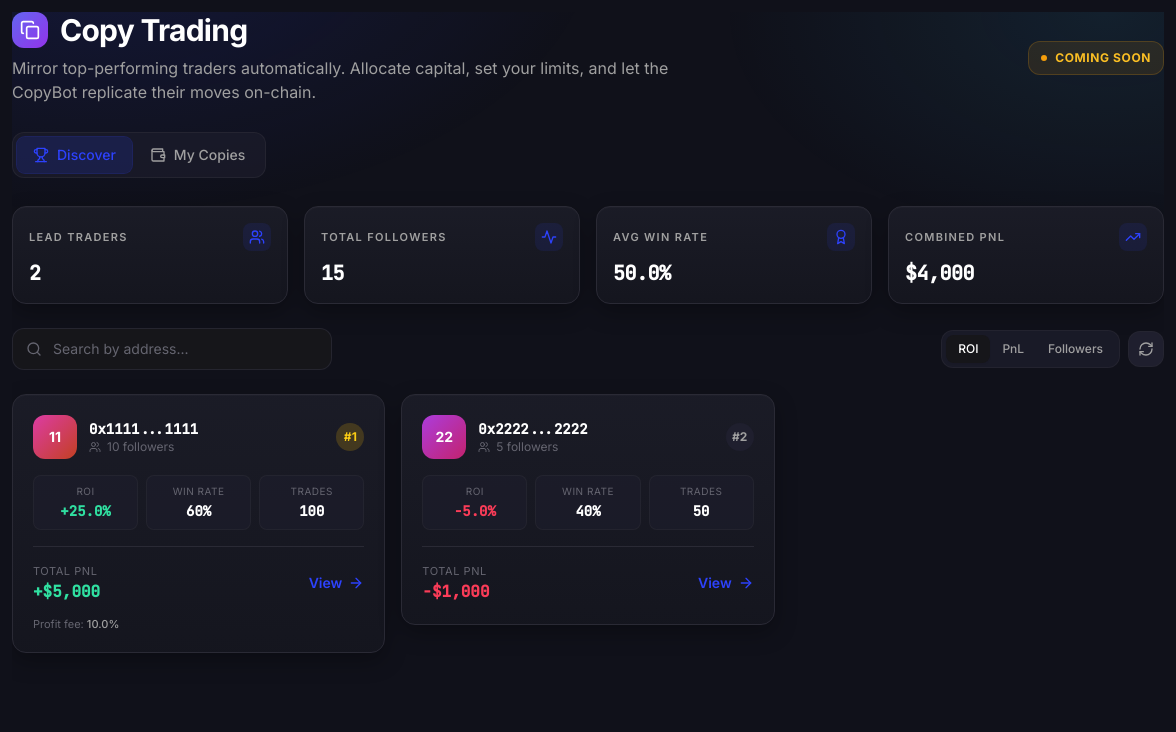
Test: CopyTradingPage › renders followed traders table
Step 1. Click the button "My Copies" → (198, 155), box [134,137,261,173]
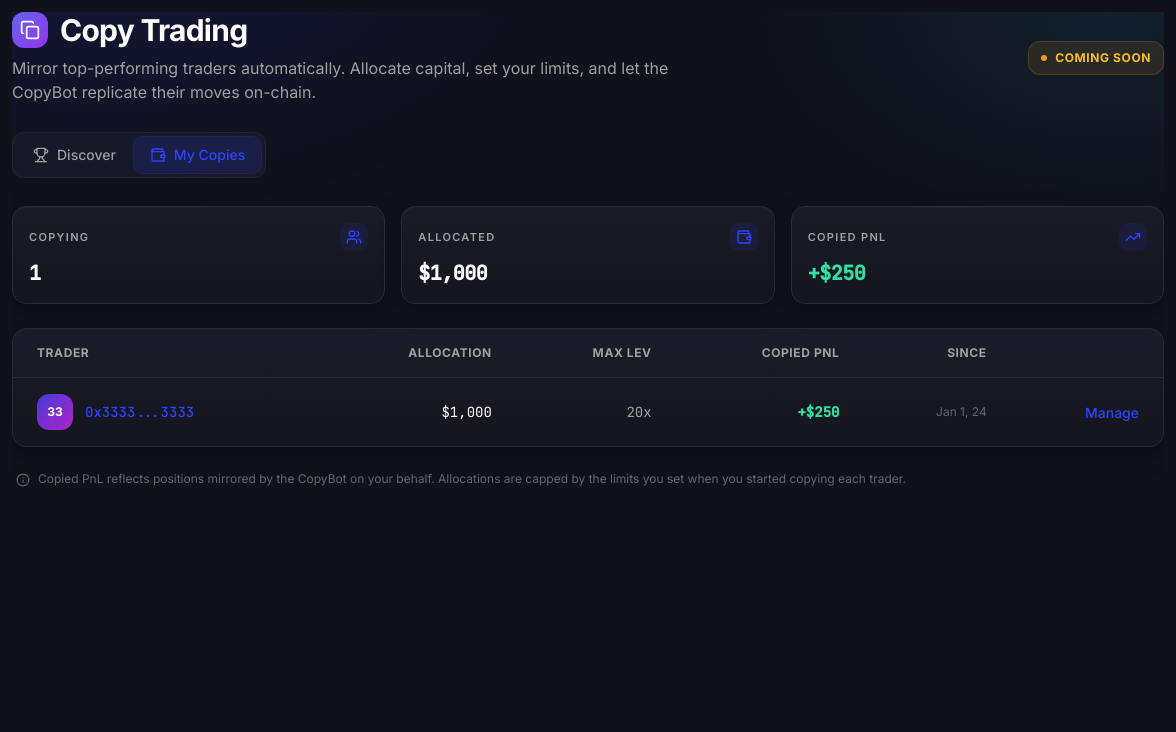
Check: the text "0x3333...3333" is shown, box [85,402,194,422]
Check: the link "Manage" is shown, box [1085,404,1139,421]
